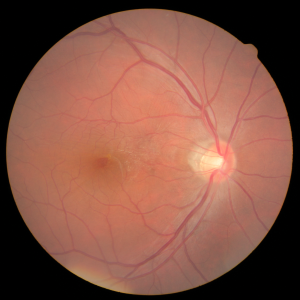retina_disease: (56, 114, 259, 217)
